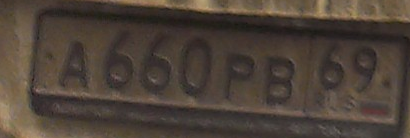character: (176, 32, 212, 99), (102, 26, 136, 94), (137, 28, 172, 94), (221, 47, 256, 104), (261, 52, 295, 107), (57, 37, 92, 89), (350, 43, 379, 95), (319, 39, 347, 89)
